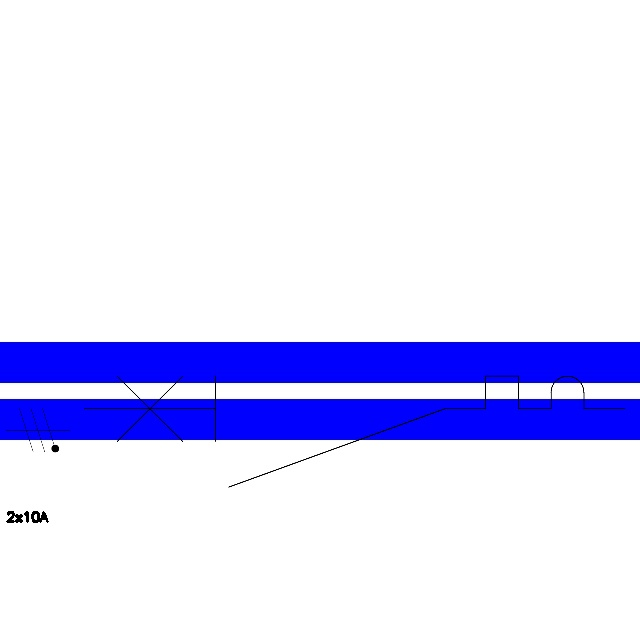interruptor_termomagnetico: (70, 362, 639, 501)
